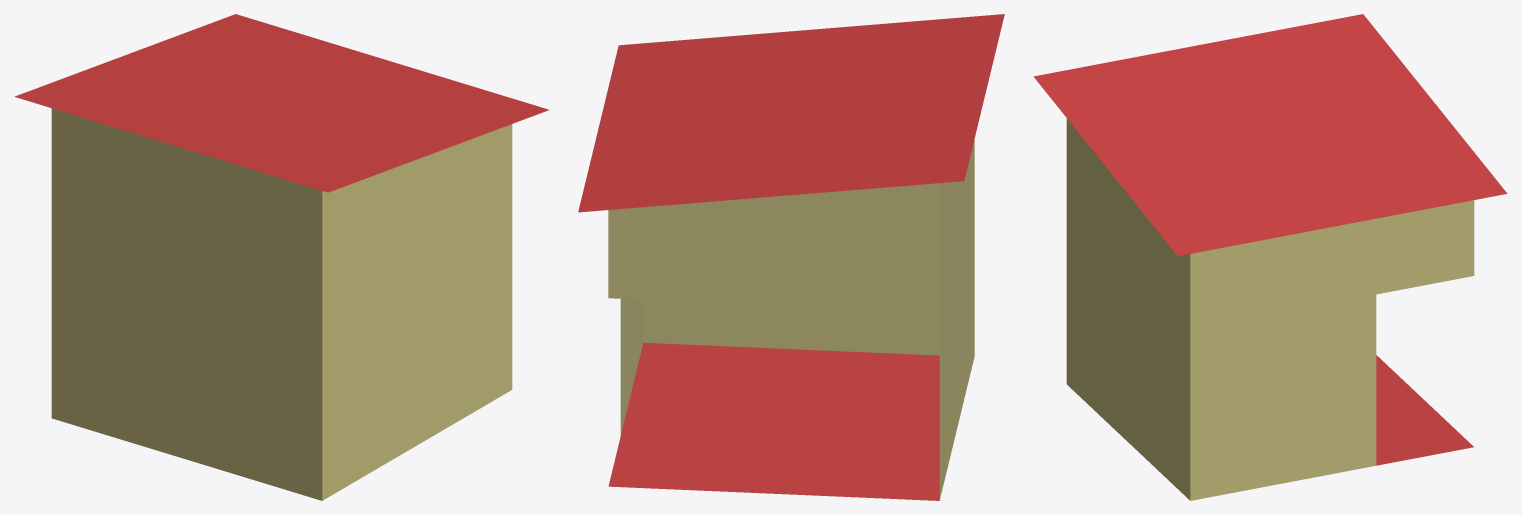
3 renders of one model, left to right at view 1: azimuth 30°, elevation 25°; view 2: azimuth 150°, elevation 25°; view 3: azimuth 270°, elevation 25°, orthographic. The views are drawn at different scales.
Size of the model in its own units: 14.01 by 14.14 by 9.95.
